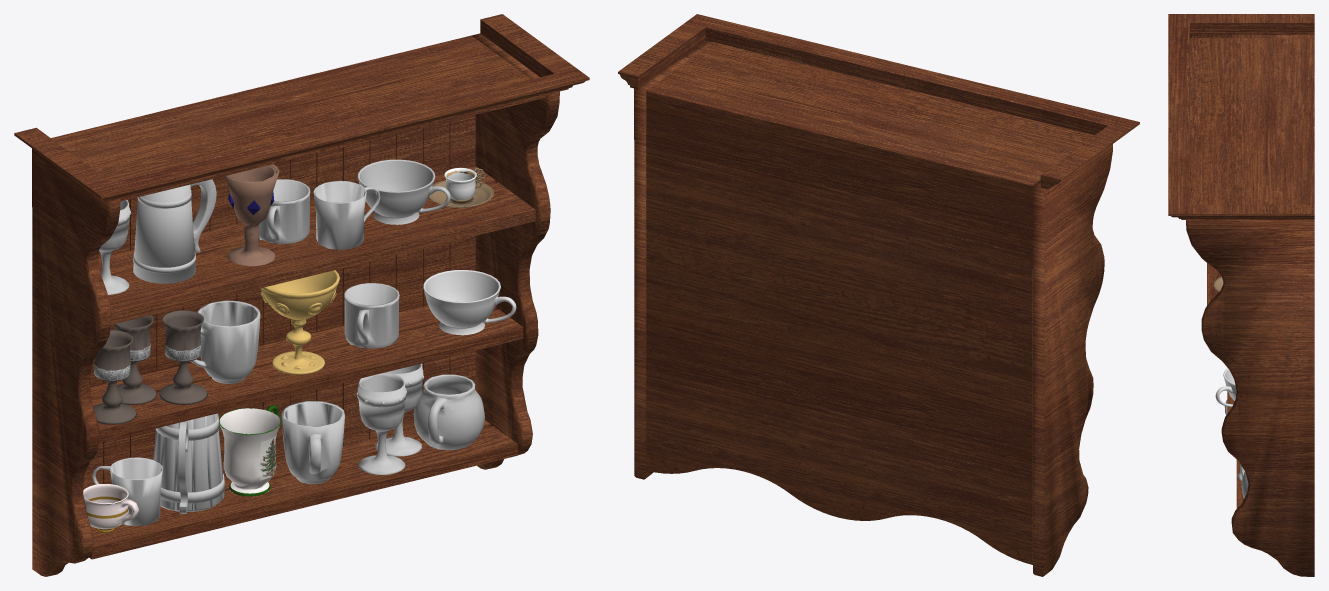
The model's file is cupboard.fbx.
The picture shows the model from 3 angles, left to right: view 1: azimuth 30°, elevation 25°; view 2: azimuth 150°, elevation 25°; view 3: azimuth 270°, elevation 25°; orthographic projection. The views are drawn at different scales.
Visible parts, largest first — view 1: Group_002.002, Group_008.001, Group_003, Group_007, Group_001.003, Group_004, Group_006, Group_005, Mug_01, Cylinder.004, mug-cage, Mug_0 (+19 smaller); view 2: Group_003, Group_002.002, Group_008.001, Group_006, Group_015, Group_001.003; view 3: Group_001.003, Group_002.002, Group_006, Group_008.001, SM_Mug_Artisan_01.001, Group_007, Group_005.
Boxes of the visible parts, x1=… form: Group_002.002: x1=51, y1=35, x2=546, y2=201; Group_008.001: x1=32, y1=148, x2=120, y2=576; Group_003: x1=83, y1=115, x2=475, y2=489; Group_007: x1=98, y1=166, x2=535, y2=324; Group_001.003: x1=472, y1=33, x2=559, y2=469; Group_004: x1=90, y1=305, x2=523, y2=442; Group_006: x1=14, y1=14, x2=589, y2=201; Group_005: x1=89, y1=420, x2=517, y2=559; Mug_01: x1=153, y1=413, x2=225, y2=513; Cylinder.004: x1=133, y1=184, x2=195, y2=283; mug-cage: x1=281, y1=401, x2=344, y2=484; Mug_0: x1=218, y1=405, x2=281, y2=496; Group_003: x1=646, y1=97, x2=1032, y2=525; Group_002.002: x1=646, y1=42, x2=1094, y2=191; Group_008.001: x1=1032, y1=144, x2=1112, y2=576; Group_006: x1=618, y1=14, x2=1139, y2=189; Group_015: x1=646, y1=431, x2=1032, y2=564; Group_001.003: x1=634, y1=40, x2=712, y2=479; Group_001.003: x1=1186, y1=220, x2=1314, y2=576; Group_002.002: x1=1190, y1=38, x2=1314, y2=204; Group_006: x1=1168, y1=14, x2=1314, y2=219; Group_008.001: x1=1190, y1=34, x2=1314, y2=38; SM_Mug_Artisan_01.001: x1=1215, y1=368, x2=1236, y2=406; Group_007: x1=1207, y1=263, x2=1221, y2=305; Group_005: x1=1236, y1=460, x2=1243, y2=508.
Bounding box in the file's own units: 110 × 95.28 × 34.
